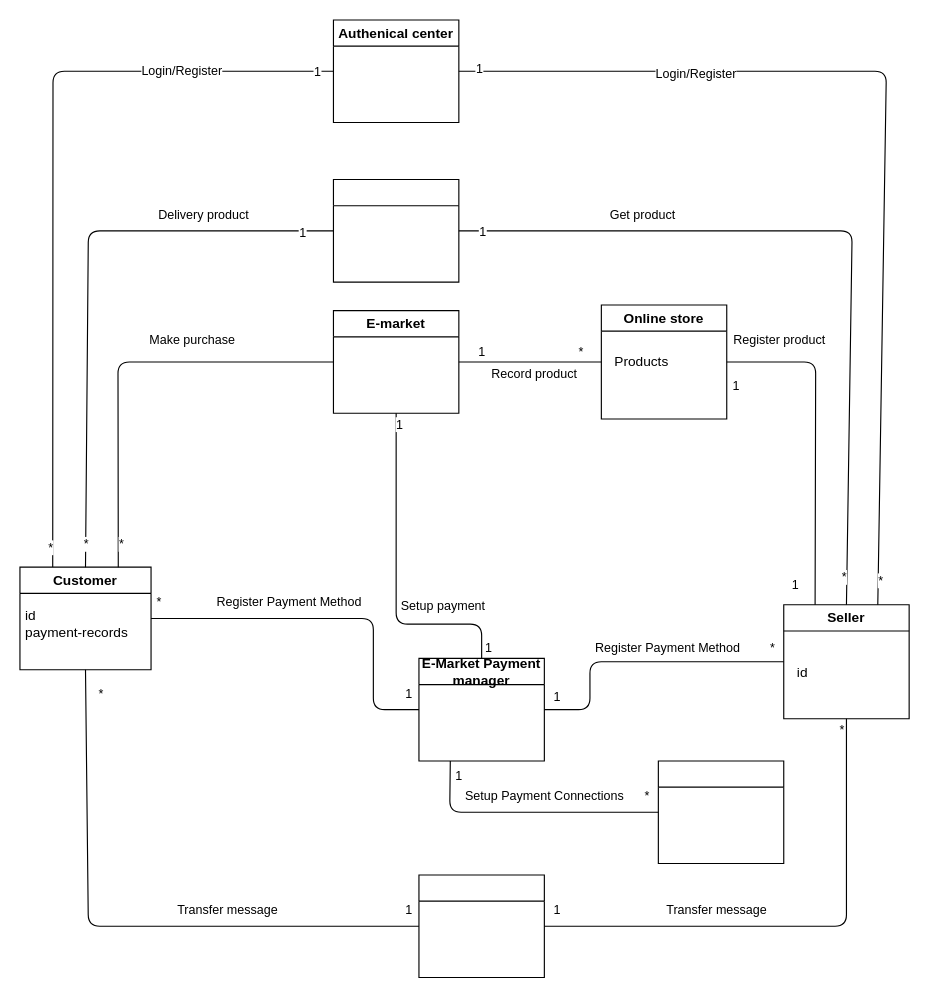
Image size: 929x998. Some labels were removed from this diagram. Here are the shapes that lost their labels. From the top down, the centre of each, then its label:
(x=395, y=230): Transport Serviece Provider
(x=720, y=812): Payment Serviece Provider
(x=481, y=926): Message Center
